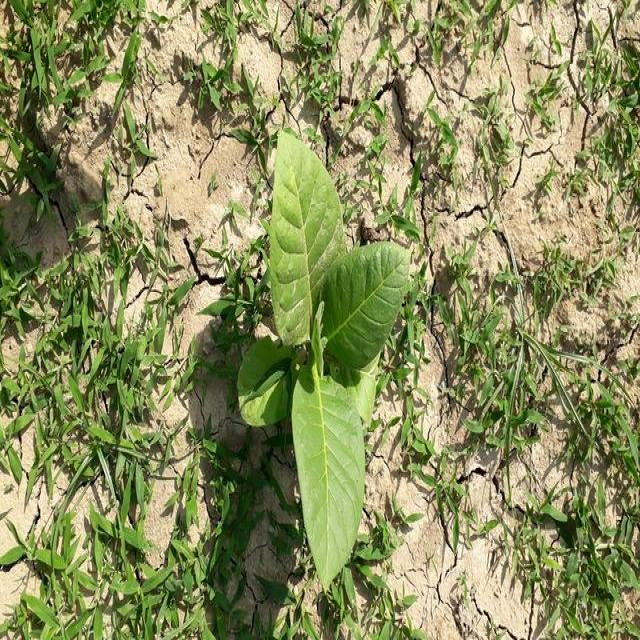crop: (252, 152, 418, 585)
